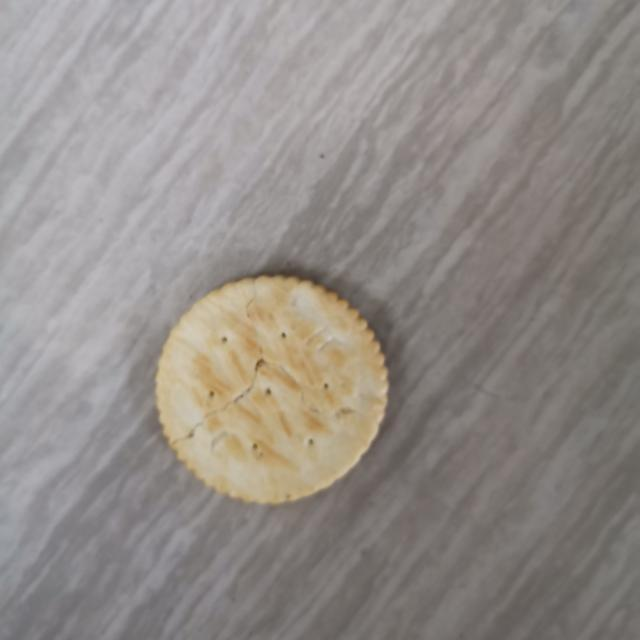Fracture: (164, 262, 379, 464)
